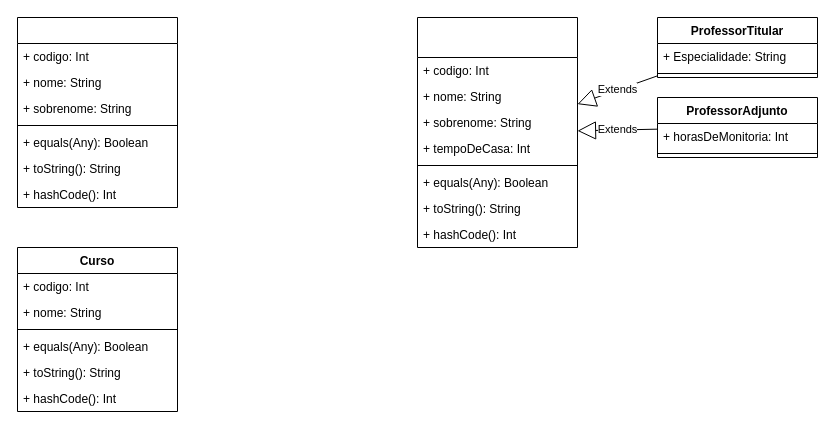
Image size: 835x432. Some labels were removed from this diagram. Each missing label, with the box of its shape:
Abstract Professor: (416, 16, 578, 248)
Aluno: (16, 16, 178, 208)
